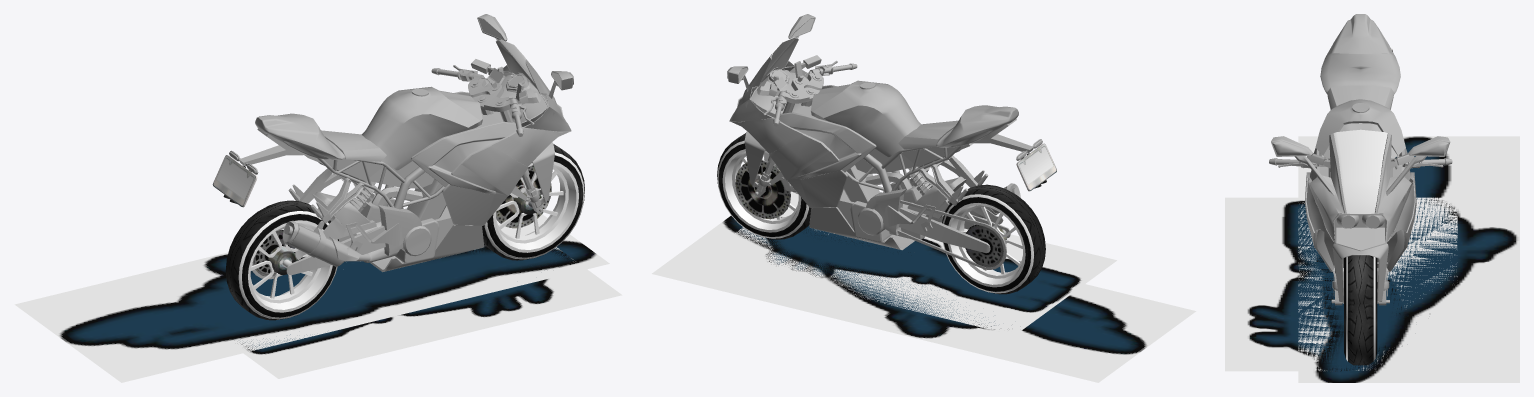
The model's file is bike5.fbx.
3 views of the same model, side by side, from view 1: azimuth 30°, elevation 25°; view 2: azimuth 150°, elevation 25°; view 3: azimuth 270°, elevation 25° (orthographic). The views are drawn at different scales.
Visible parts, largest first — view 1: Shadow_SunSet_3, SpeedMeter_AI_3, Shadow_DayLight_3, Body_AI_3, Rim_F_3, Tyre_B_3, Counter_AI, Rim_B_3, Tyre_F_3, Plate; view 2: Shadow_SunSet_3, SpeedMeter_AI_3, Shadow_DayLight_3, Body_AI_3, Rim_F_3, Tyre_B_3, Counter_AI, Rim_B_3, Tyre_F_3, Plate; view 3: Shadow_SunSet_3, Shadow_DayLight_3, SpeedMeter_AI_3, Tyre_F_3, Body_AI_3, Glass_AI_3, Counter_AI.
Boxes of the visible parts, bbox=[...] form: Shadow_SunSet_3: bbox=[14, 214, 609, 382]; SpeedMeter_AI_3: bbox=[229, 14, 573, 279]; Shadow_DayLight_3: bbox=[235, 219, 622, 378]; Body_AI_3: bbox=[317, 86, 568, 271]; Rim_F_3: bbox=[493, 161, 578, 252]; Tyre_B_3: bbox=[225, 200, 338, 320]; Counter_AI: bbox=[431, 59, 554, 213]; Rim_B_3: bbox=[248, 220, 332, 312]; Tyre_F_3: bbox=[482, 144, 584, 260]; Plate: bbox=[212, 155, 257, 207]; Shadow_SunSet_3: bbox=[652, 212, 1196, 382]; SpeedMeter_AI_3: bbox=[727, 14, 1042, 269]; Shadow_DayLight_3: bbox=[718, 191, 1116, 335]; Body_AI_3: bbox=[732, 80, 961, 249]; Rim_F_3: bbox=[722, 149, 801, 232]; Tyre_B_3: bbox=[942, 184, 1045, 294]; Counter_AI: bbox=[744, 55, 857, 196]; Rim_B_3: bbox=[948, 203, 1025, 287]; Tyre_F_3: bbox=[717, 133, 811, 239]; Plate: bbox=[1016, 143, 1056, 191]; Shadow_SunSet_3: bbox=[1298, 136, 1519, 382]; Shadow_DayLight_3: bbox=[1225, 197, 1457, 371]; SpeedMeter_AI_3: bbox=[1271, 14, 1450, 303]; Tyre_F_3: bbox=[1344, 255, 1377, 365]; Body_AI_3: bbox=[1306, 99, 1414, 303]; Glass_AI_3: bbox=[1333, 129, 1387, 213]; Counter_AI: bbox=[1269, 153, 1452, 305].
Size of the model in its own units: 302 by 127 by 152.
